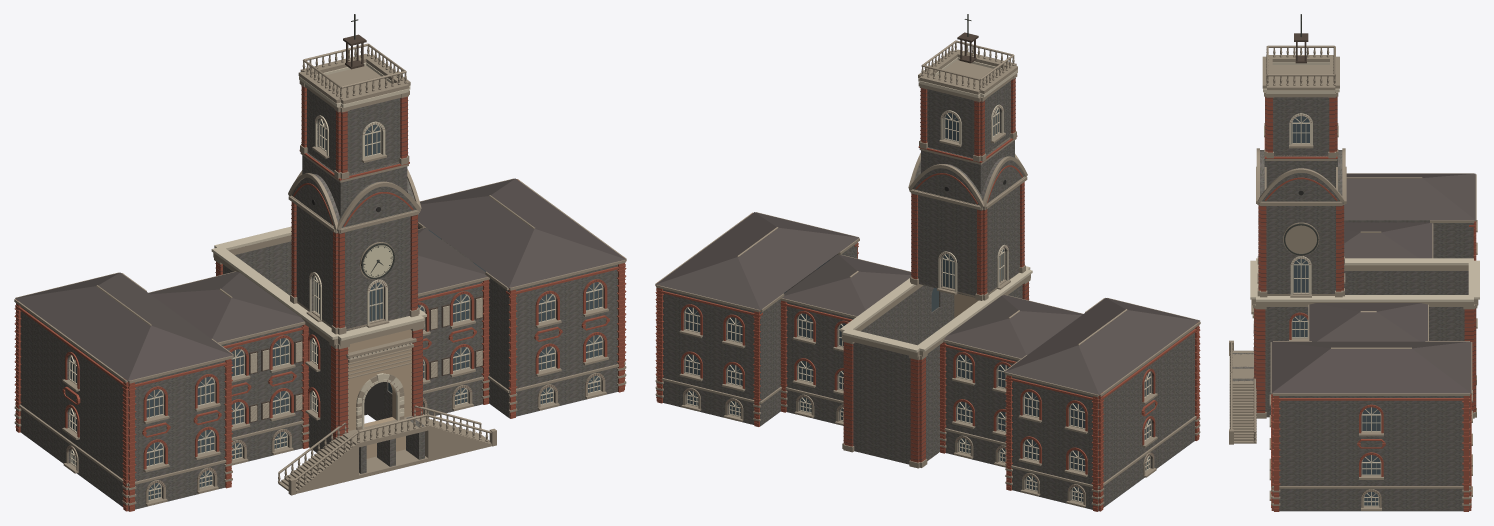
The model's file is xuhui-zikawei-observatory-1908-raw.glb.
3 views of the same model, side by side, from view 1: azimuth 30°, elevation 25°; view 2: azimuth 150°, elevation 25°; view 3: azimuth 270°, elevation 25° (orthographic). The views are drawn at different scales.
Visible parts, largest first — view 1: 徐家汇观象台1908年钟塔与两翼; view 2: 徐家汇观象台1908年钟塔与两翼; view 3: 徐家汇观象台1908年钟塔与两翼.
Part boxes in pixels (box(x1,y1,x2,y2)): 徐家汇观象台1908年钟塔与两翼: box(14, 14, 626, 511); 徐家汇观象台1908年钟塔与两翼: box(655, 14, 1200, 511); 徐家汇观象台1908年钟塔与两翼: box(1229, 14, 1479, 511).
Size of the model in its own units: 47.08 by 38.22 by 22.55.
Materials: 13 (1 with a texture image).
